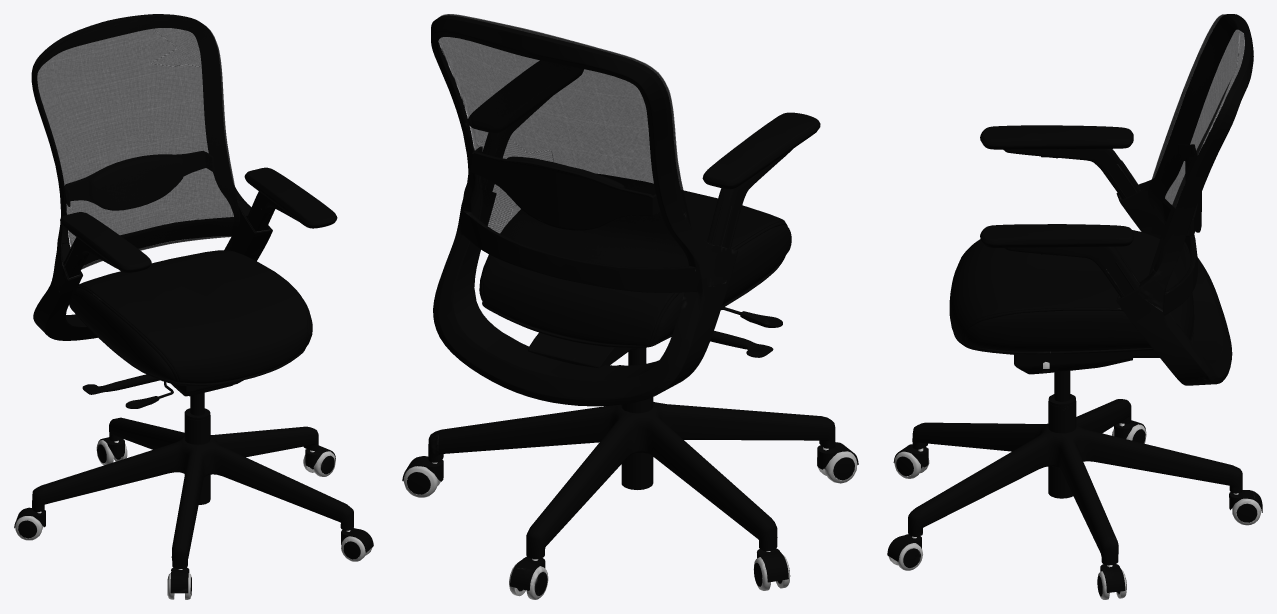
3 views of the same model, side by side, from view 1: azimuth 30°, elevation 25°; view 2: azimuth 150°, elevation 25°; view 3: azimuth 270°, elevation 25° (orthographic). The views are drawn at different scales.
Parts seen in each view (by area): view 1: 10601124_office_chair.003, 10601124_office_chair; view 2: 10601124_office_chair.003, 10601124_office_chair; view 3: 10601124_office_chair.003, 10601124_office_chair.
Boxes of the visible parts, x1,y1,x2,y2 form: 10601124_office_chair.003: [14, 14, 373, 599]; 10601124_office_chair: [35, 16, 240, 269]; 10601124_office_chair.003: [402, 15, 858, 599]; 10601124_office_chair: [438, 14, 691, 267]; 10601124_office_chair.003: [887, 14, 1262, 599]; 10601124_office_chair: [1148, 14, 1244, 290].
Size of the model in its own units: 0.7576 by 1.03 by 0.7346.
Materials: 2 (2 with a texture image).
